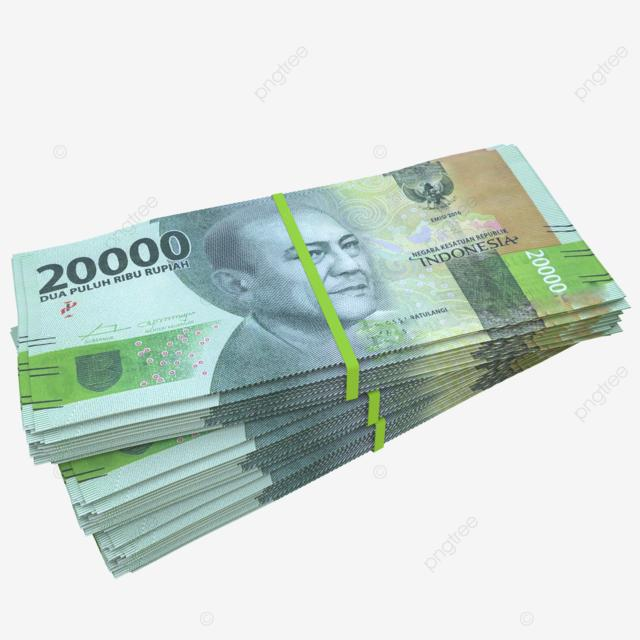dua puluh ribu rupiah: (21, 143, 628, 435)
